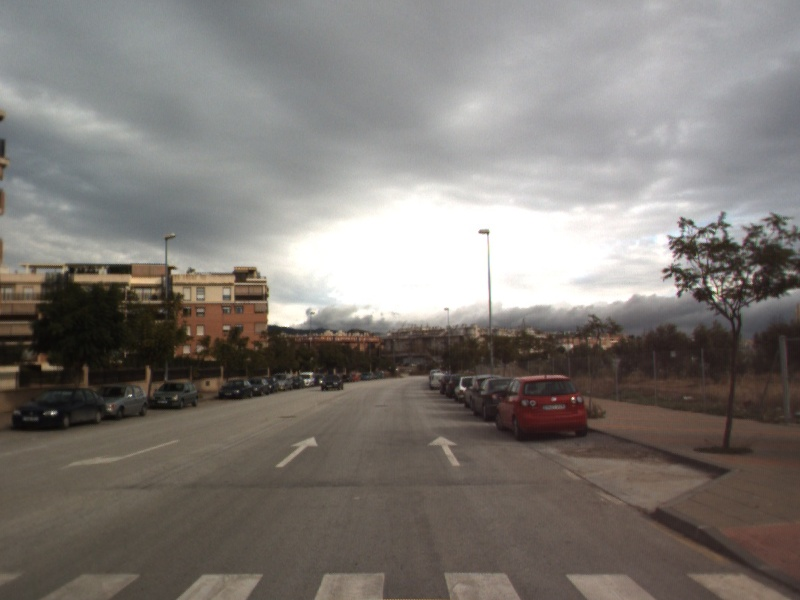STRAIGHT: (273, 434, 321, 469), (426, 434, 463, 468)
